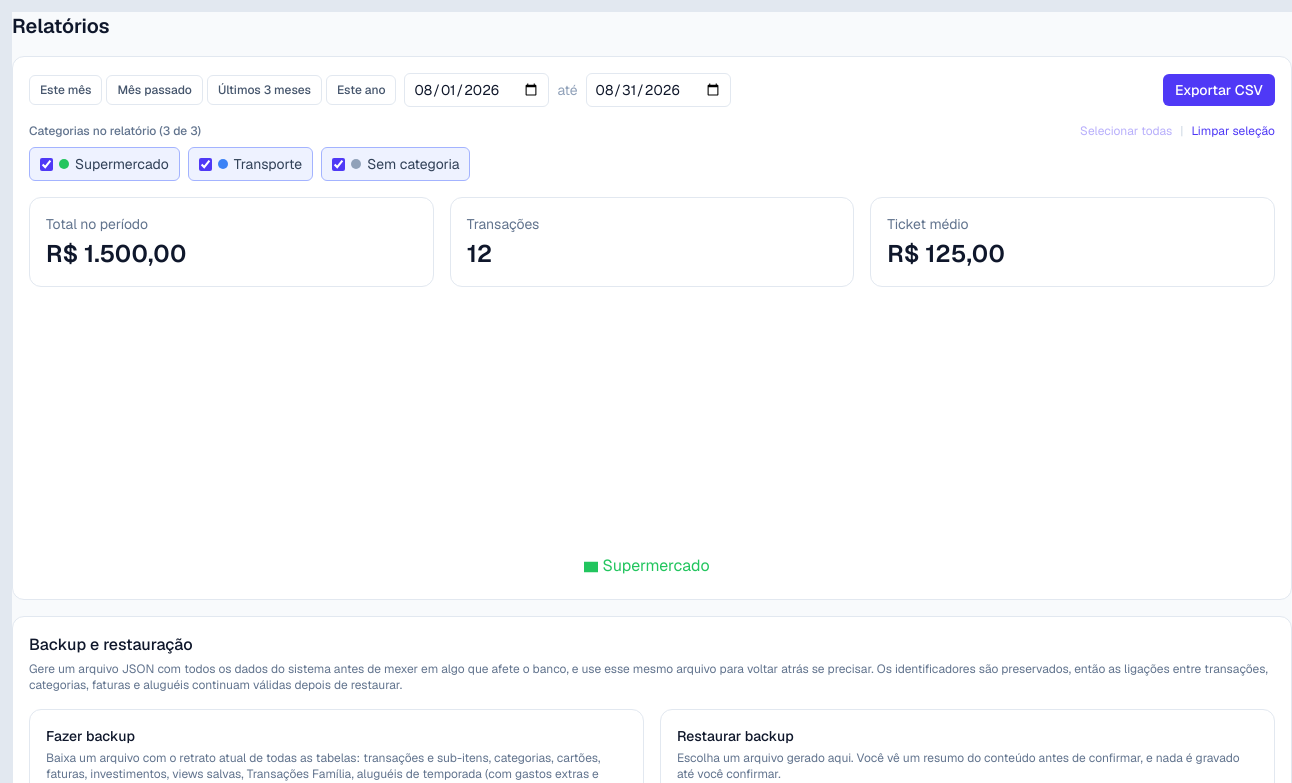
página /relatorios — filtros › desmarcar uma categoria refaz a busca sem ela
This screenshot has width=1292, height=783.
Click the checkbox labelled "Supermercado" at (46, 164), box [40,158,53,170]
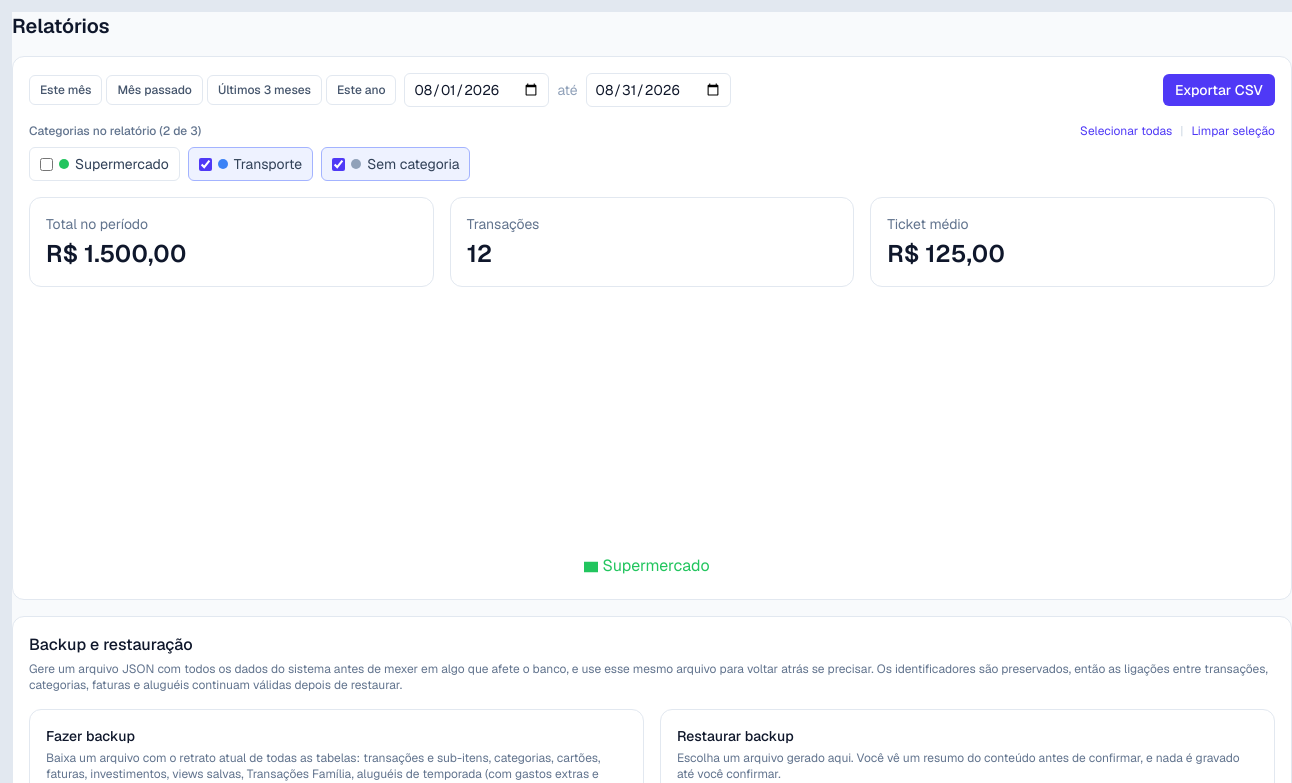
Check: the text "Categorias no relatório (2 de 3)" is shown, box [29,123,201,139]
